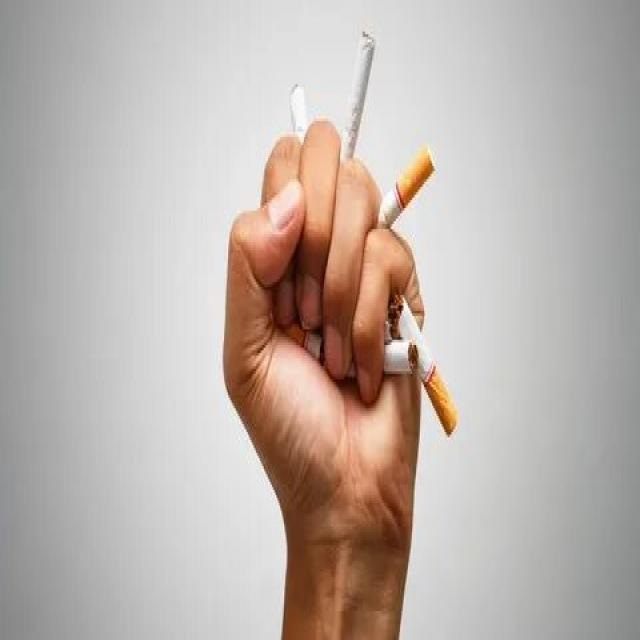smoke: (383, 282, 460, 453), (371, 142, 440, 237), (342, 27, 378, 172), (279, 319, 340, 366), (286, 76, 310, 148)
